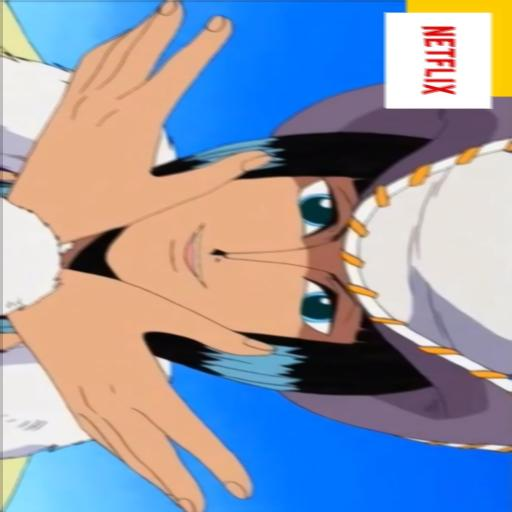NicoRobin: (123, 77, 512, 417)
